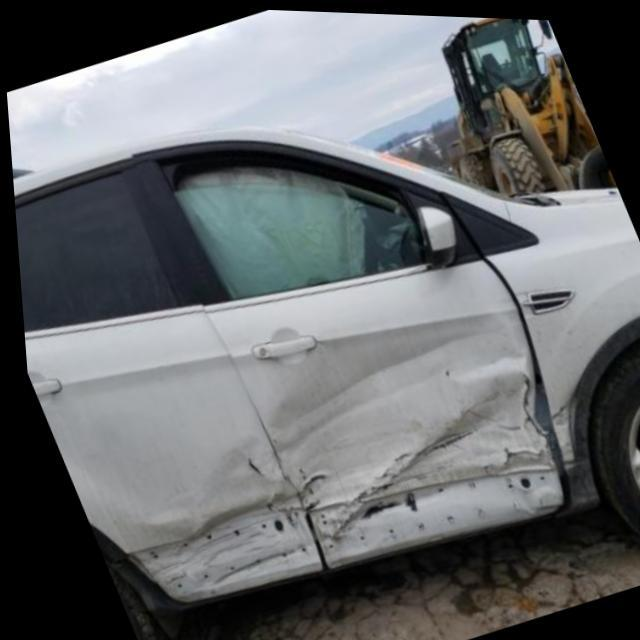dent: (98, 302, 594, 599)
